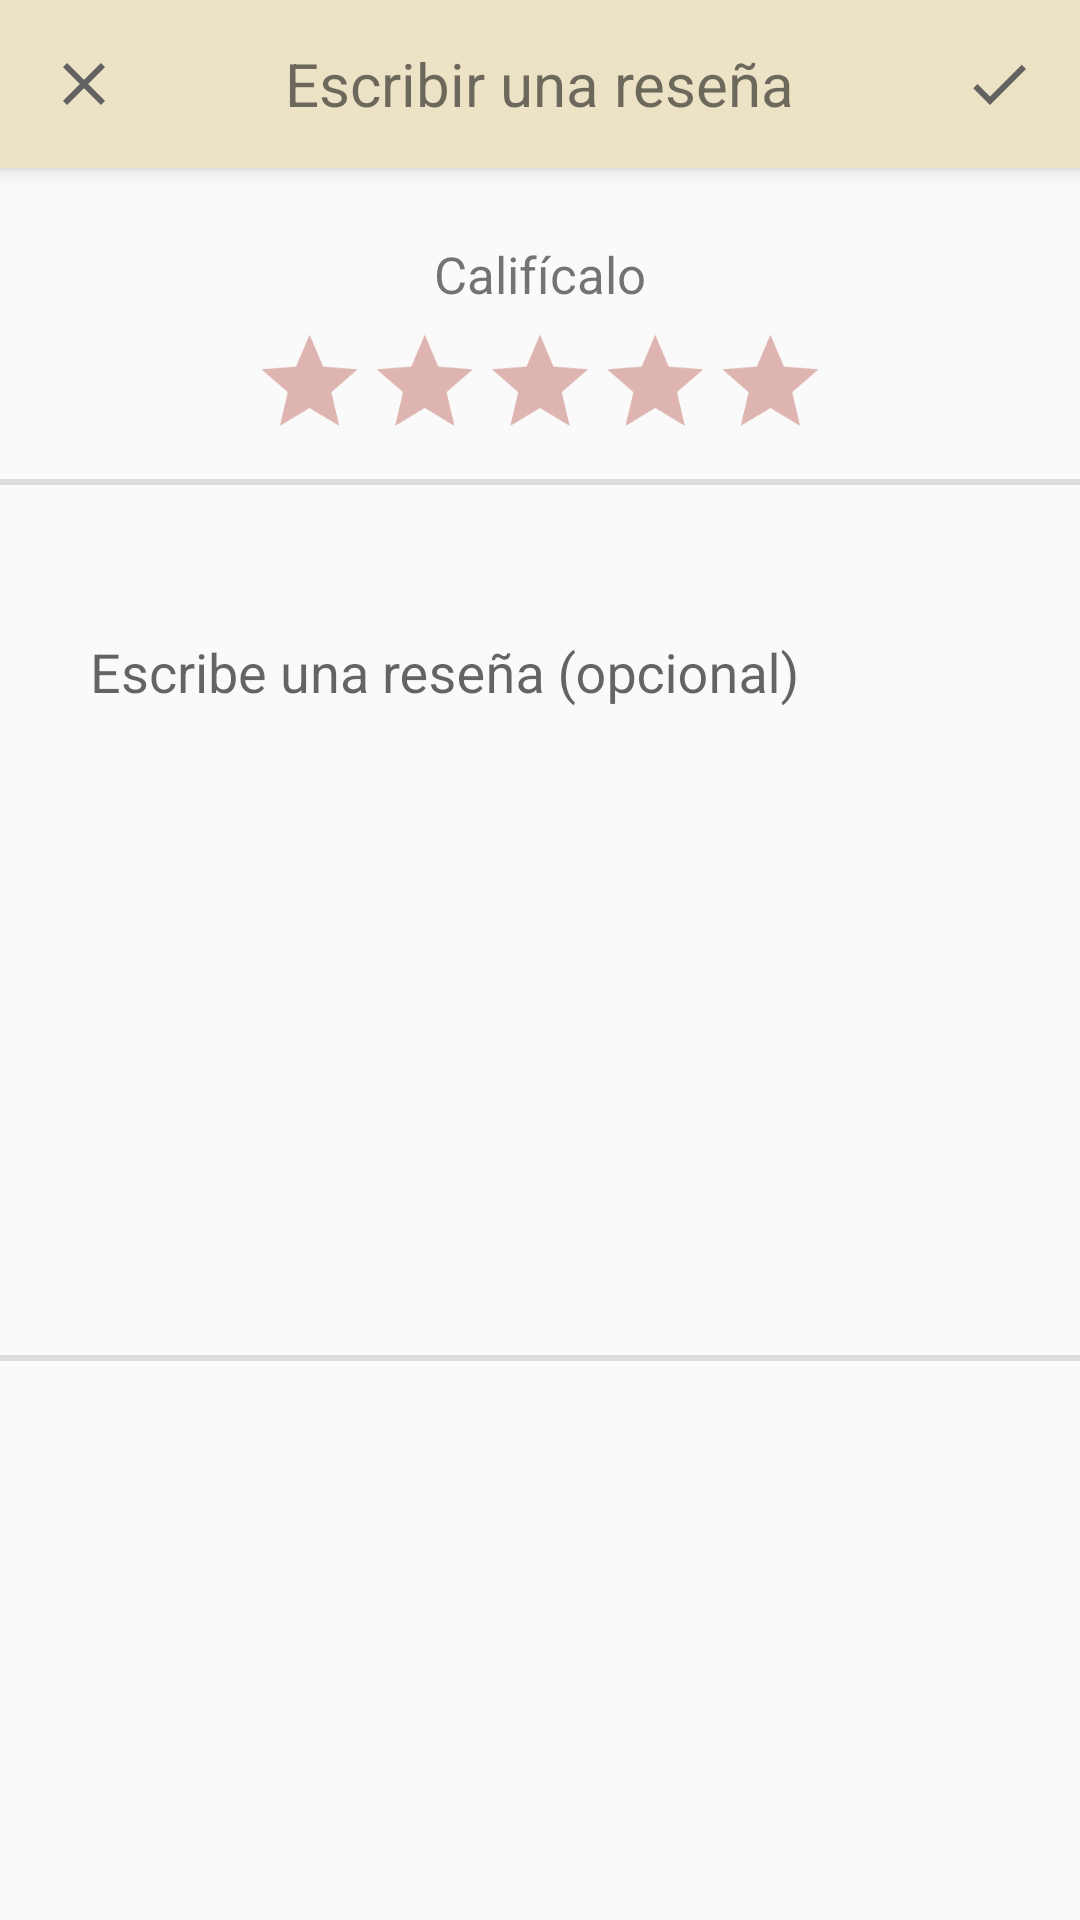

Icons on this 1080px×1920px Android screen, each with its box as (x1, y1, x2, y2):
check: (973, 65, 1026, 105)
close: (63, 63, 105, 105)
